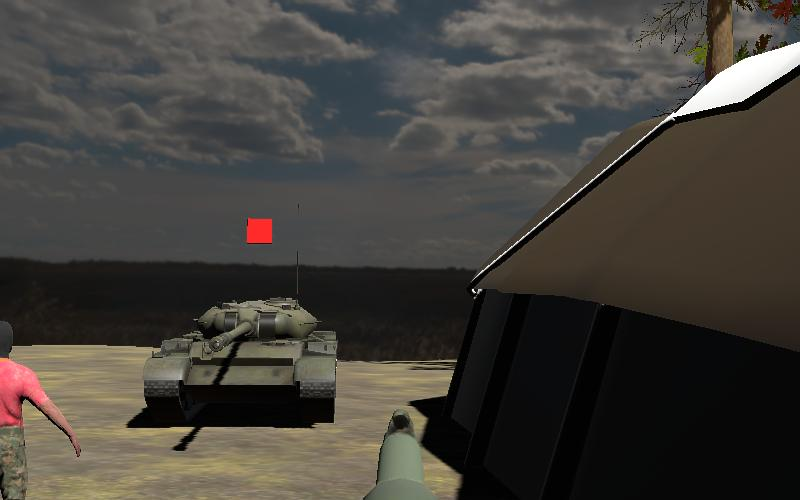Human: (0, 314, 84, 499)
Tank: (142, 292, 339, 428)
